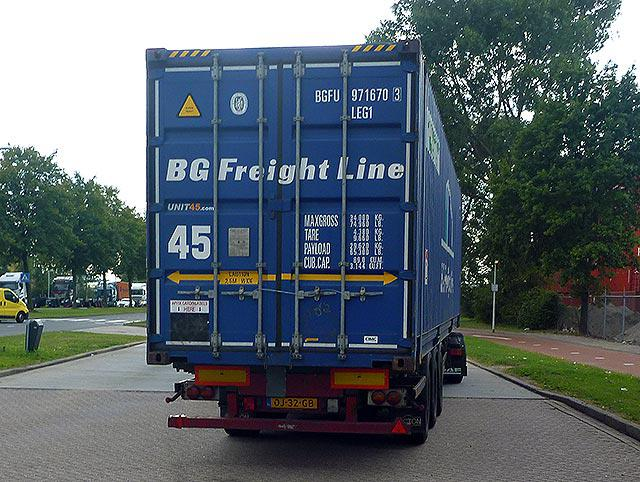ContainerNum: (312, 85, 404, 122)
